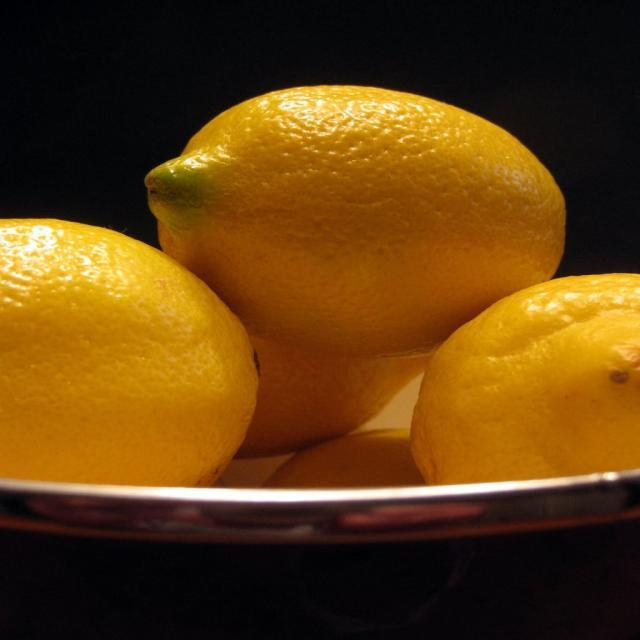Lemon: (0, 82, 639, 492), (0, 215, 264, 489)
